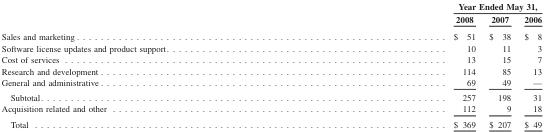table: (0, 0, 541, 128)
table column: (0, 0, 310, 128), (310, 0, 481, 128), (481, 0, 516, 128), (516, 0, 541, 128)
table column header: (0, 0, 541, 27)
table row: (0, 12, 541, 27), (0, 27, 541, 42), (0, 102, 541, 116), (0, 76, 541, 89), (0, 89, 541, 102), (0, 0, 541, 12), (0, 64, 541, 76), (0, 116, 541, 128), (0, 42, 541, 53), (0, 53, 541, 64)
table spanning cell: (310, 0, 541, 12)
